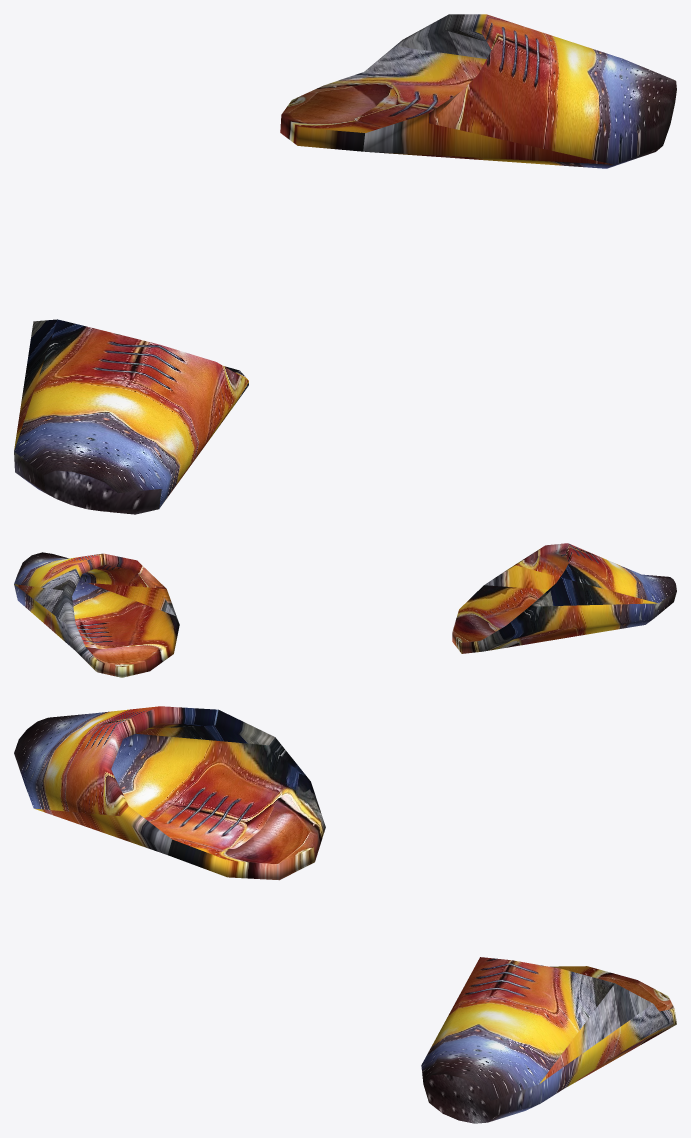
File: Shoes3.fbx
The picture shows the model from 3 angles, top to bottom: view 1: azimuth 30°, elevation 25°; view 2: azimuth 150°, elevation 25°; view 3: azimuth 270°, elevation 25°; orthographic projection. The views are drawn at different scales.
Visible parts, largest first — view 1: F.Shoes.001; view 2: F.Shoes.001; view 3: F.Shoes.001.
Part boxes in pixels (<box>): F.Shoes.001: <box>14,14,676,514</box>; F.Shoes.001: <box>14,543,676,677</box>; F.Shoes.001: <box>14,706,676,1123</box>.
Bounding box in the file's own units: 684 × 103 × 510.
